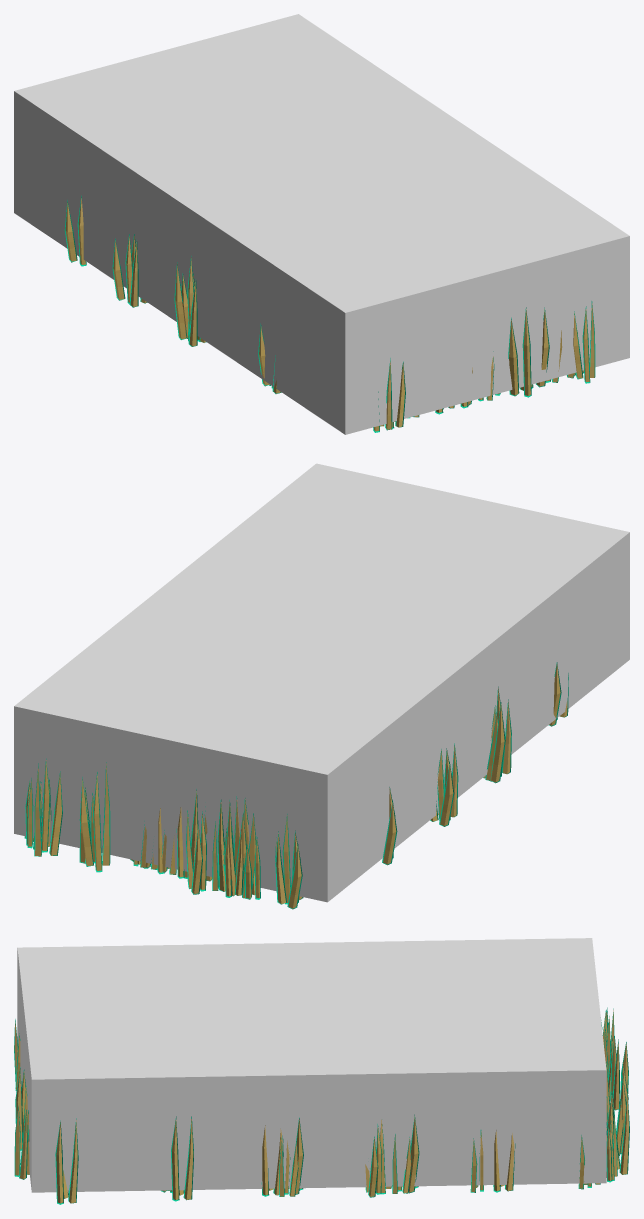
File: Wheat.gltf
3 views of the same model, one above another, from view 1: azimuth 30°, elevation 25°; view 2: azimuth 150°, elevation 25°; view 3: azimuth 270°, elevation 25° (orthographic). The views are drawn at different scales.
Visible parts, largest first — view 1: boxWheat, Reed, Outline; view 2: boxWheat, Reed, Outline; view 3: boxWheat, Reed, Outline.
Boxes of the visible parts, box(x1,y1,x2,y2) form: boxWheat: box(14, 14, 629, 434); Reed: box(65, 197, 594, 431); Outline: box(64, 195, 595, 432); boxWheat: box(14, 463, 629, 902); Reed: box(25, 664, 567, 908); Outline: box(24, 662, 568, 909); boxWheat: box(17, 938, 606, 1192); Reed: box(14, 1010, 628, 1203); Outline: box(14, 1007, 629, 1204).
Size of the model in its own units: 5.96 by 2.18 by 10.19.
2 materials, 1 textured.
